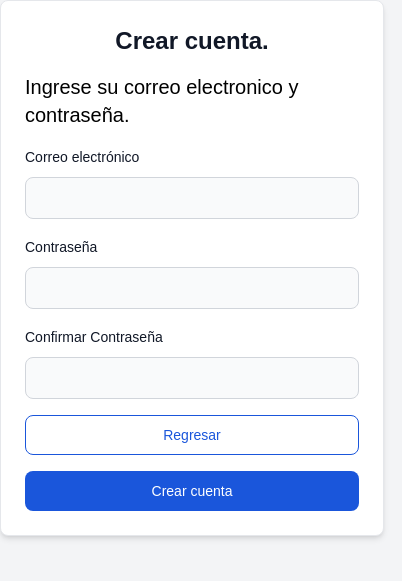
it: UserRegistration › shows validation error for empty email field
In the password field with test id "password": (192, 288) [25,267,359,309], type "ValidPassword123!@#"
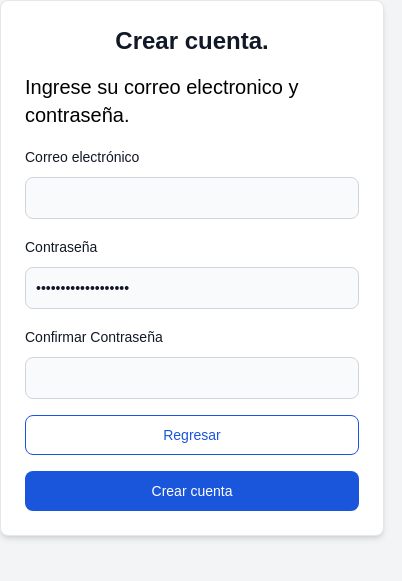
In the password field with test id "confirmPassword": (192, 378) [25,357,359,399], type "ValidPassword123!@#"
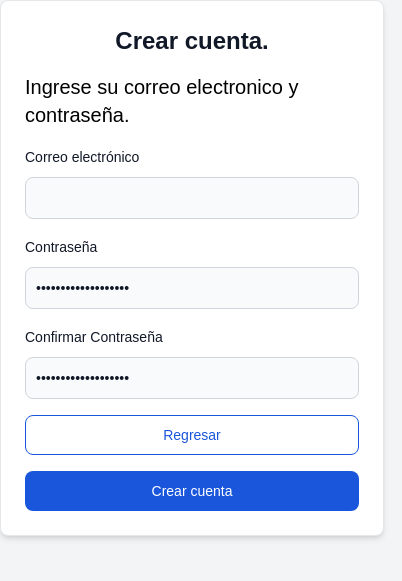
Click the button "Crear cuenta": (192, 491) [25,471,359,511]
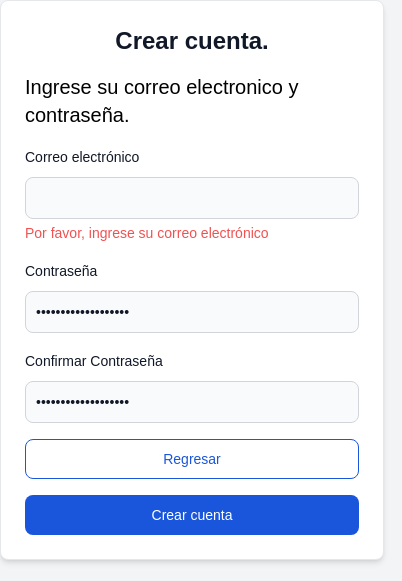
Now the text "Por favor, ingrese su correo electrónico" is shown, box [25,225,269,241]
